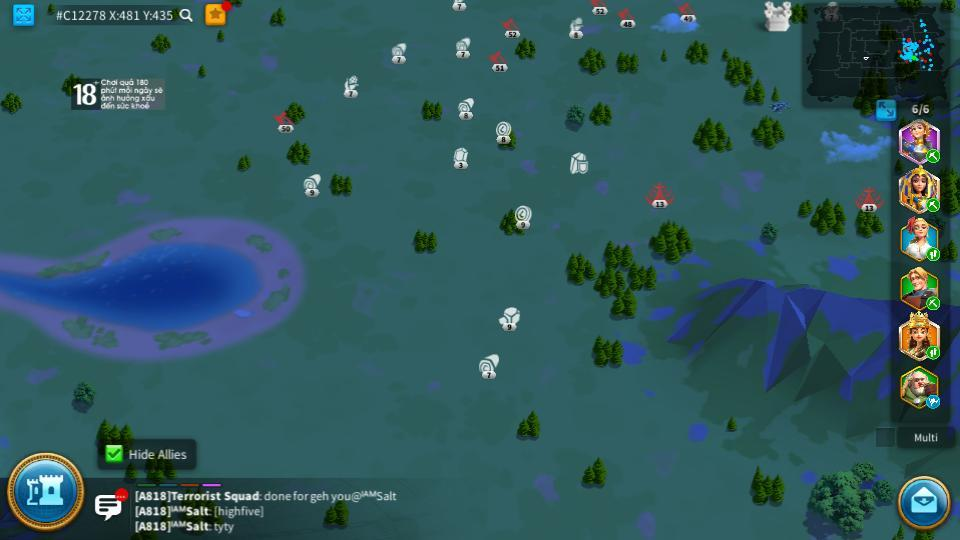gem-z-out: (451, 147, 470, 168)
march_idle: (925, 396, 942, 408)
march_marching: (925, 149, 942, 162), (925, 199, 941, 212), (925, 347, 941, 359), (925, 297, 942, 308)
